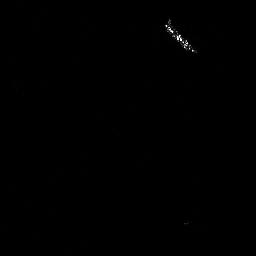ship: (163, 20, 197, 55)
